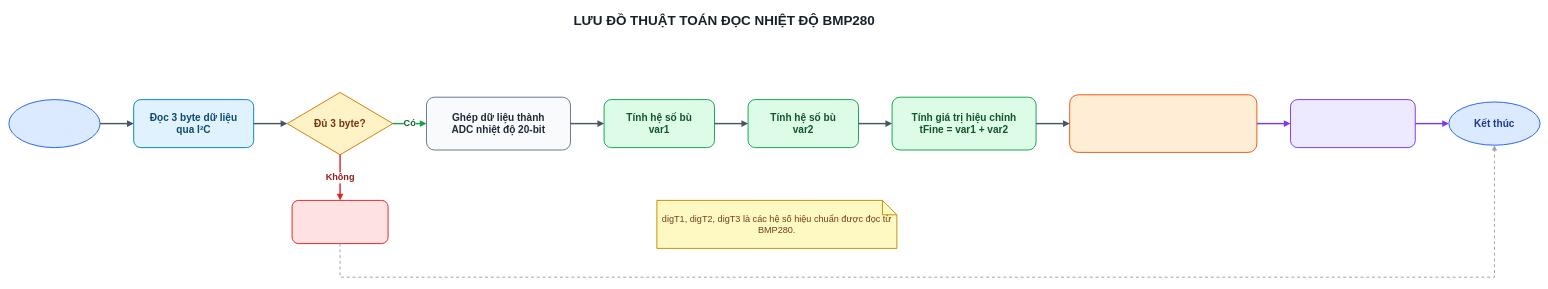
The diagram is 1548 pixels wide and 289 high, and some of its shapes have lost their labels. Each missing label, with the centre of its shape:
Báo lỗi I²C và kết thúc: point 339,222
Bắt đầu đọc nhiệt độ: point 54,123
Chuyển đổi nhiệt độ T = ((tFine × 5 + 128) >> 8) / 100: point 1163,123
Phát dataUpdated (nhiệt độ): point 1353,123
